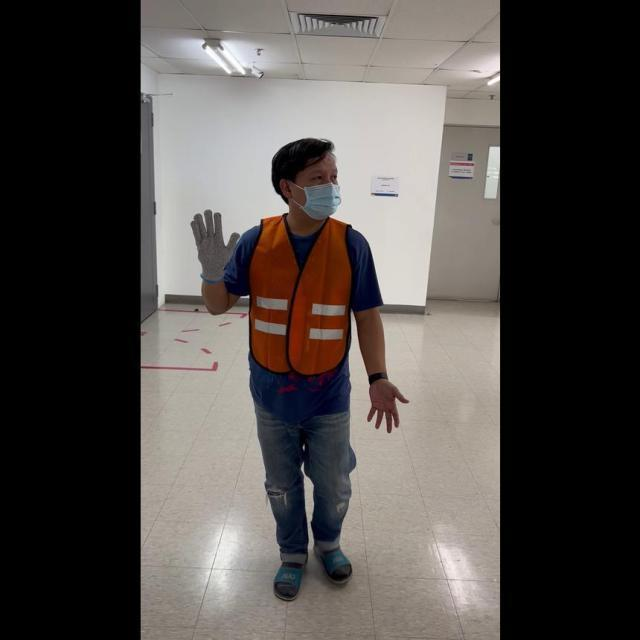bare_hand: (362, 373, 406, 432)
gloved_hand: (188, 205, 239, 284)
